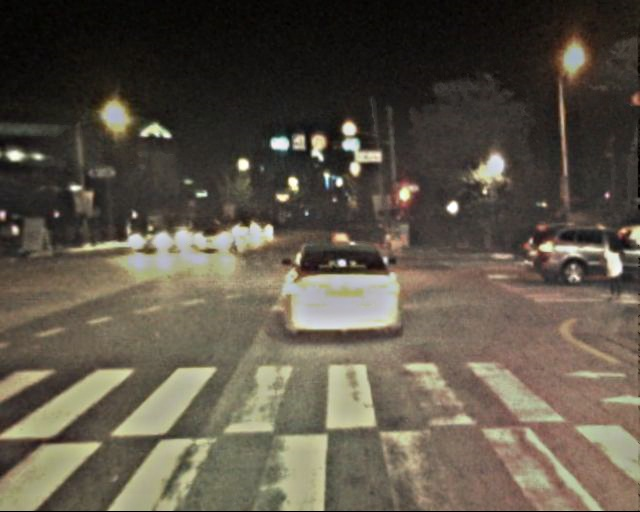person: (593, 229, 626, 307)
